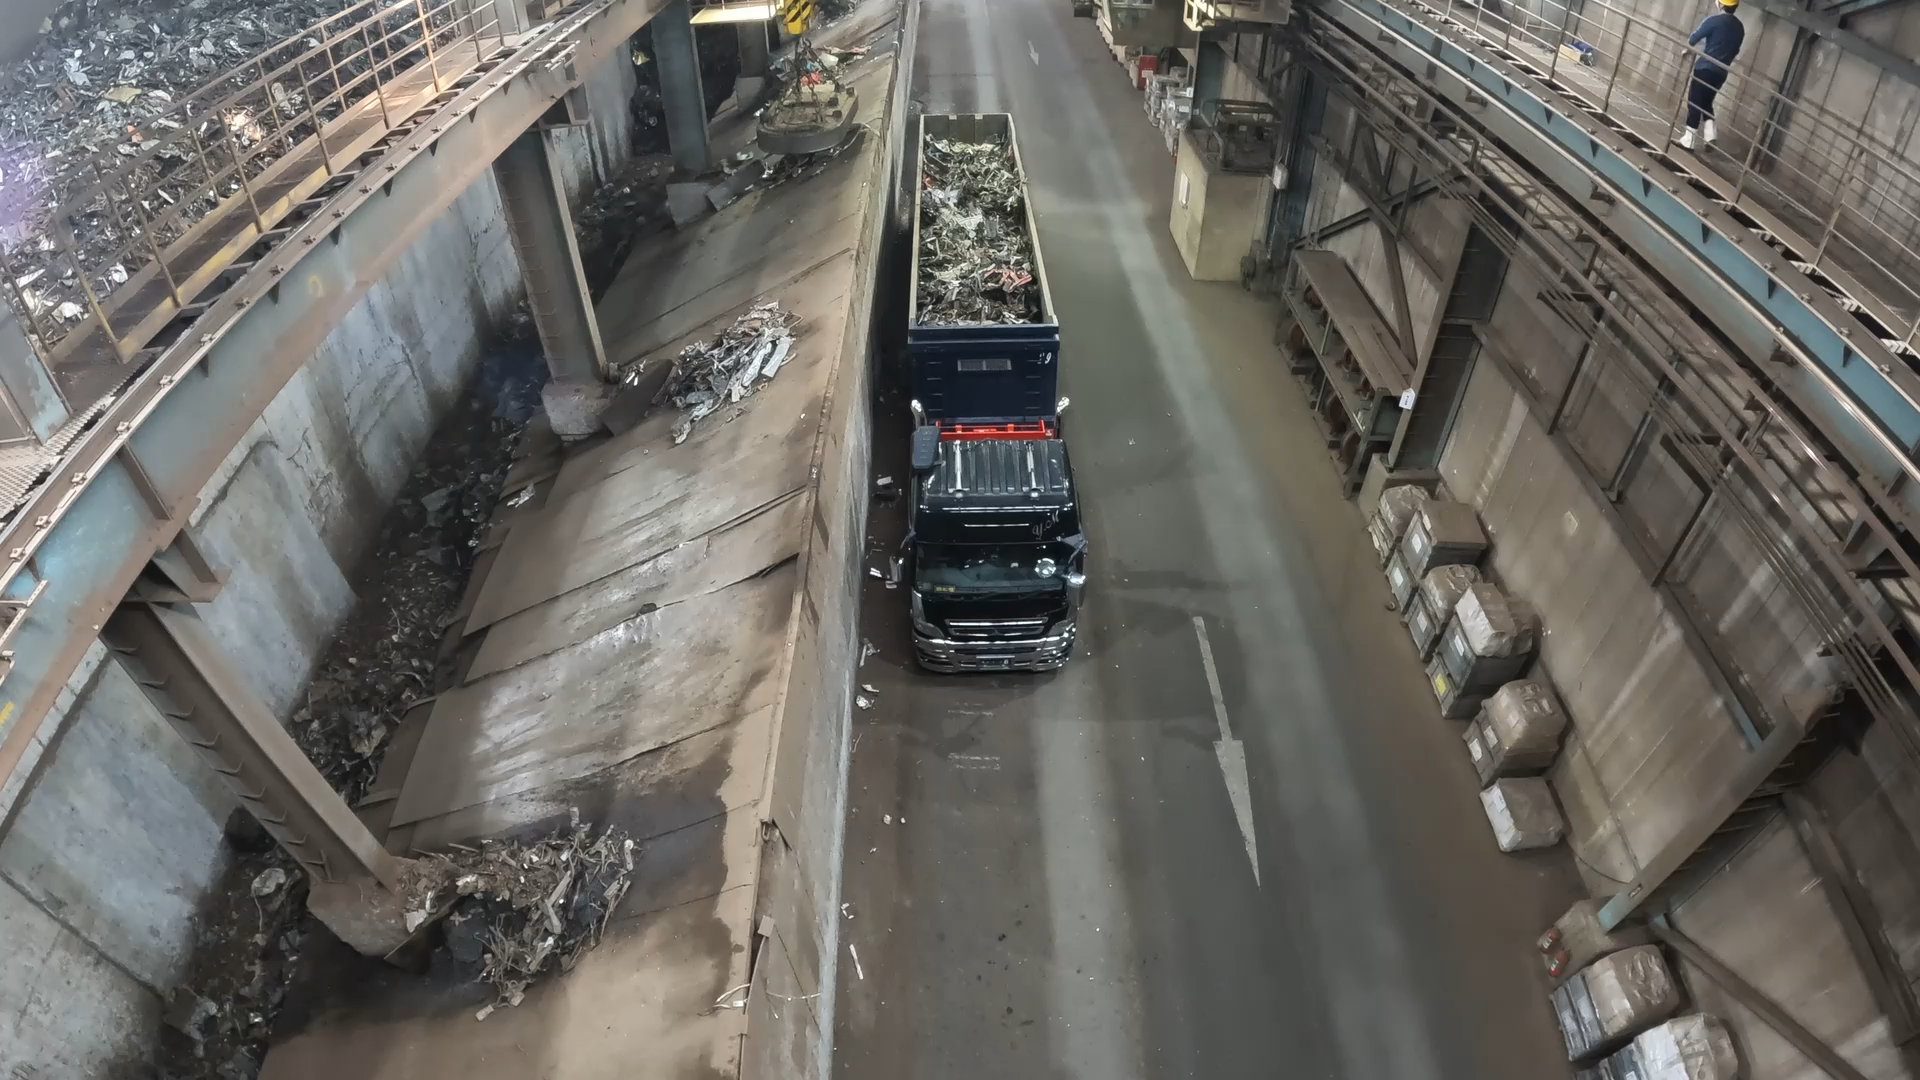truck: (911, 112, 1055, 327)
